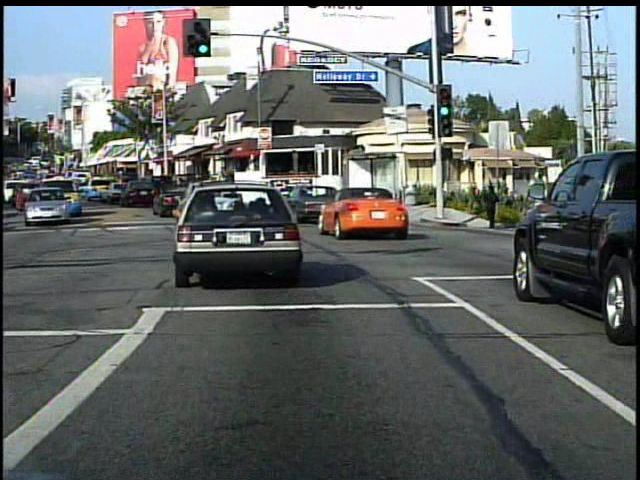person: (567, 185, 590, 246), (481, 182, 503, 229)
